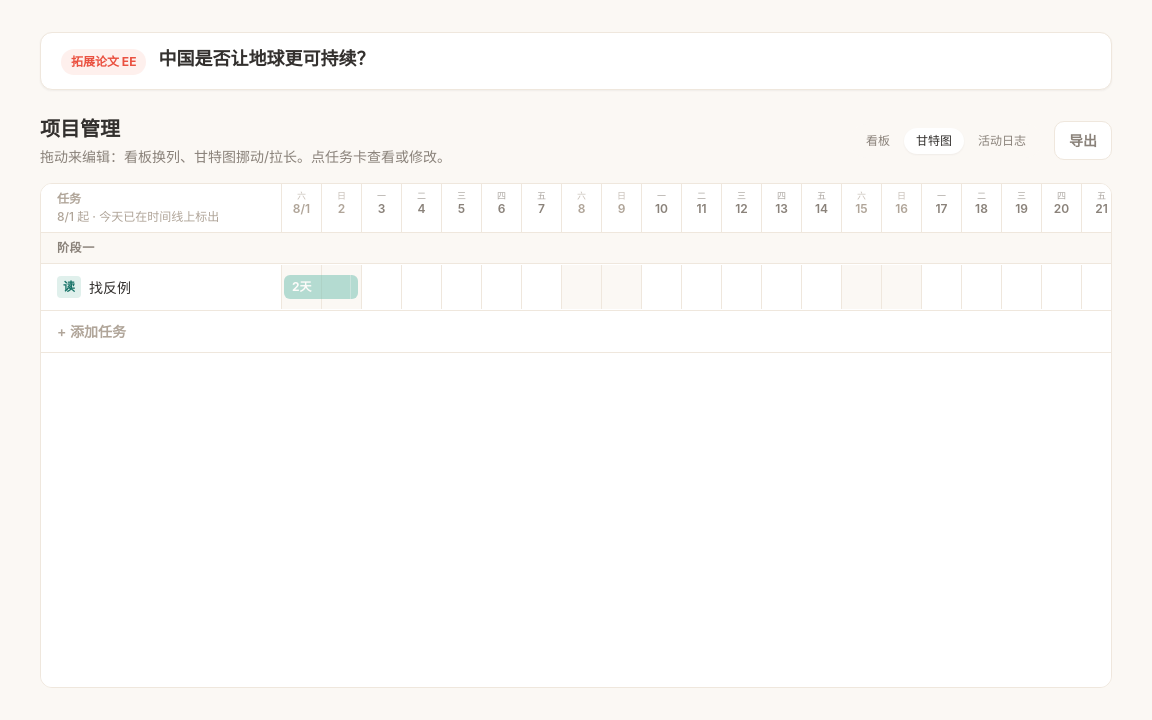
PlanBlock · working phase (plan board) is unaffected by the coach restyle › opens straight on the board (Segmented view switcher) when the proposal is already filled
The width and height of the screenshot is (1152, 720).
Expected: the text "找反例" is shown, [89,276,131,298]
Expected: the button "看板" is shown, [854,128,902,154]
What coordinates should you click on to do the following:
click the button "活动日志"
I would click on:
 (1002, 140)
Its box is [966,128,1038,154].
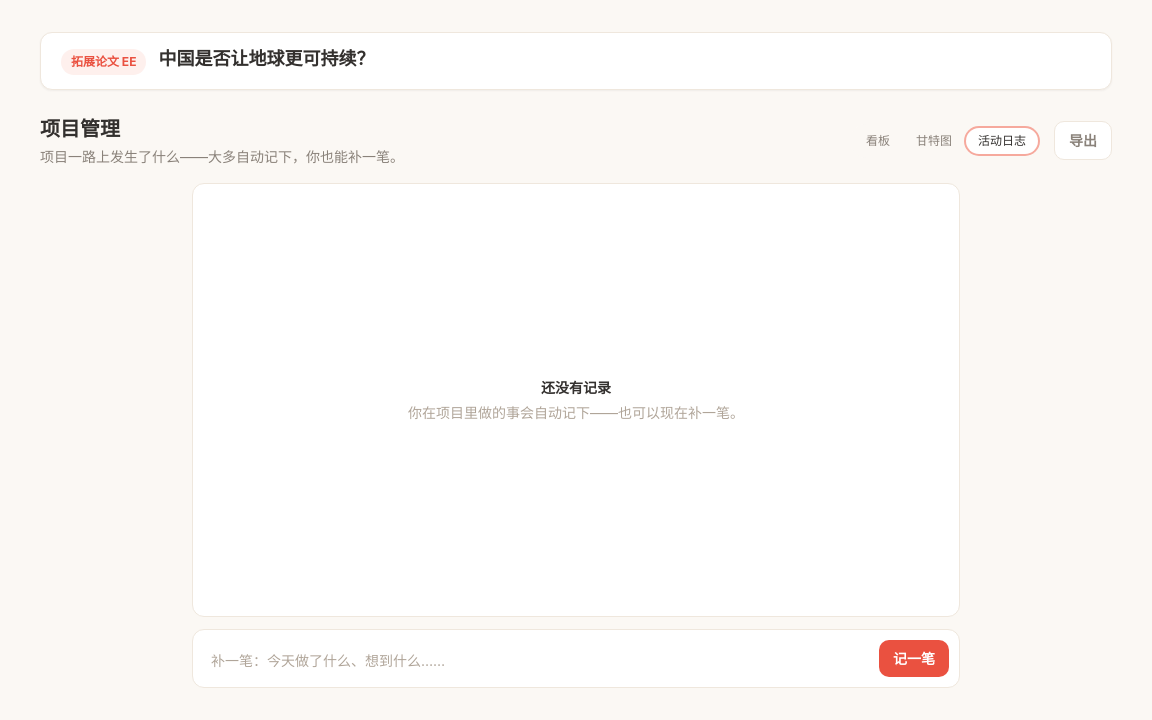
Now the text "还没有记录" is shown, box [541,377,611,398]
